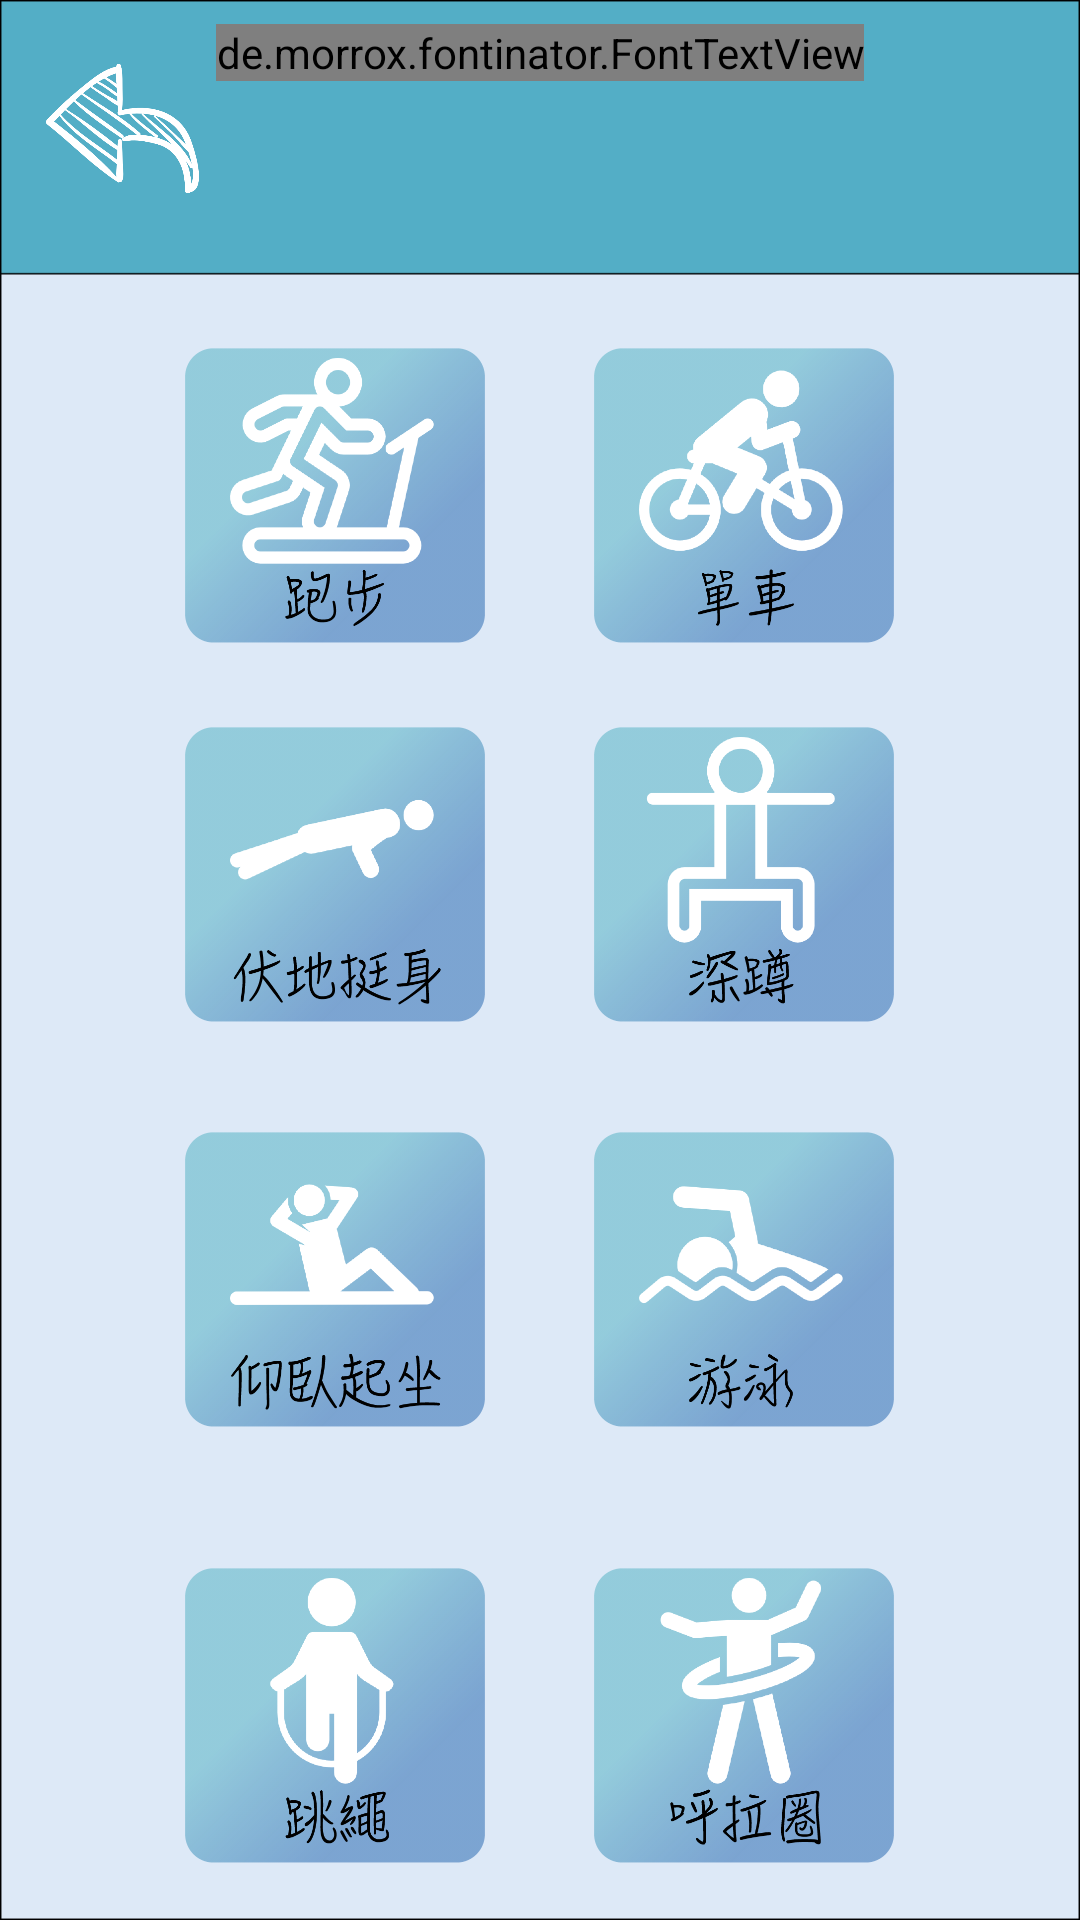

Screen size 1080×1920. Icon name, then its center in pixels as [x,y]:
return back: [122,128]
